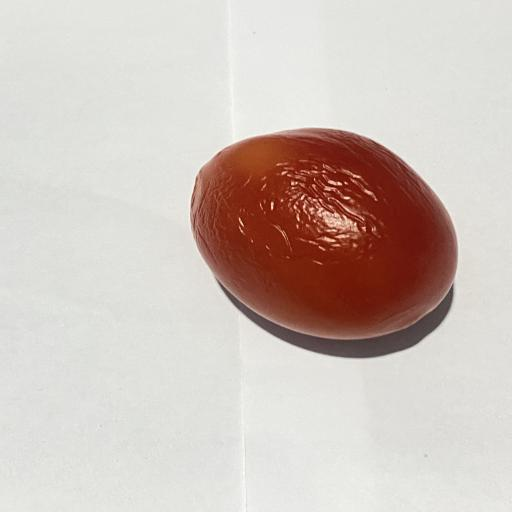spoiled: (191, 129, 457, 339)
